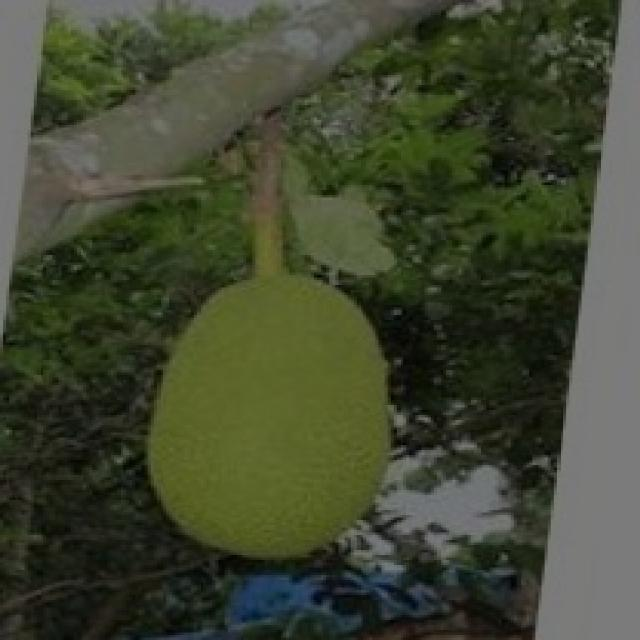Fruit: (110, 245, 428, 590)
